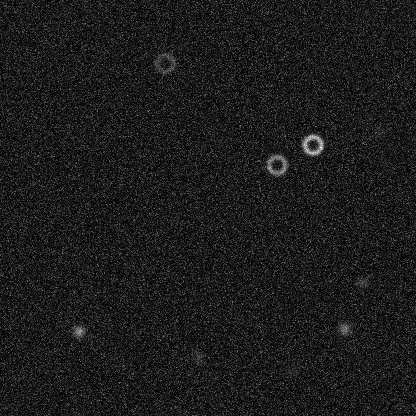Ring: (152, 51, 176, 75), (300, 132, 324, 156), (264, 152, 288, 176)
Spot: (283, 363, 299, 379), (370, 125, 386, 141), (336, 320, 352, 336), (70, 323, 86, 339), (354, 274, 370, 290), (190, 349, 206, 365)
